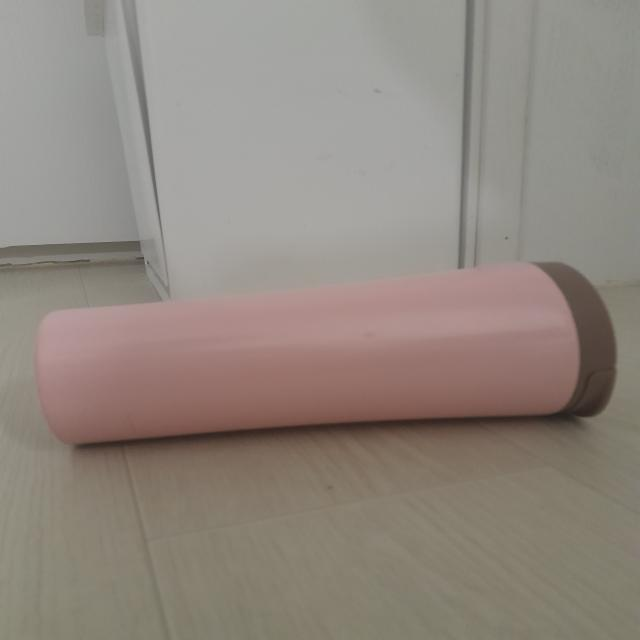waterbottle: (46, 264, 615, 445)
